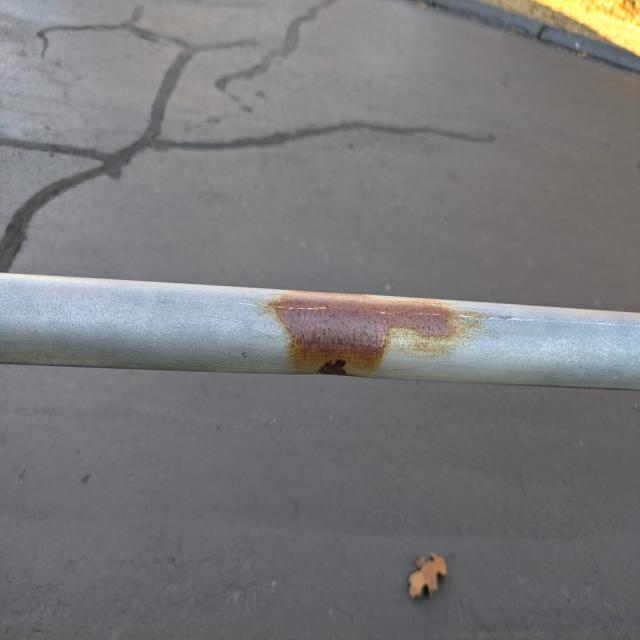Crevice Corrosion: (269, 289, 494, 383)
